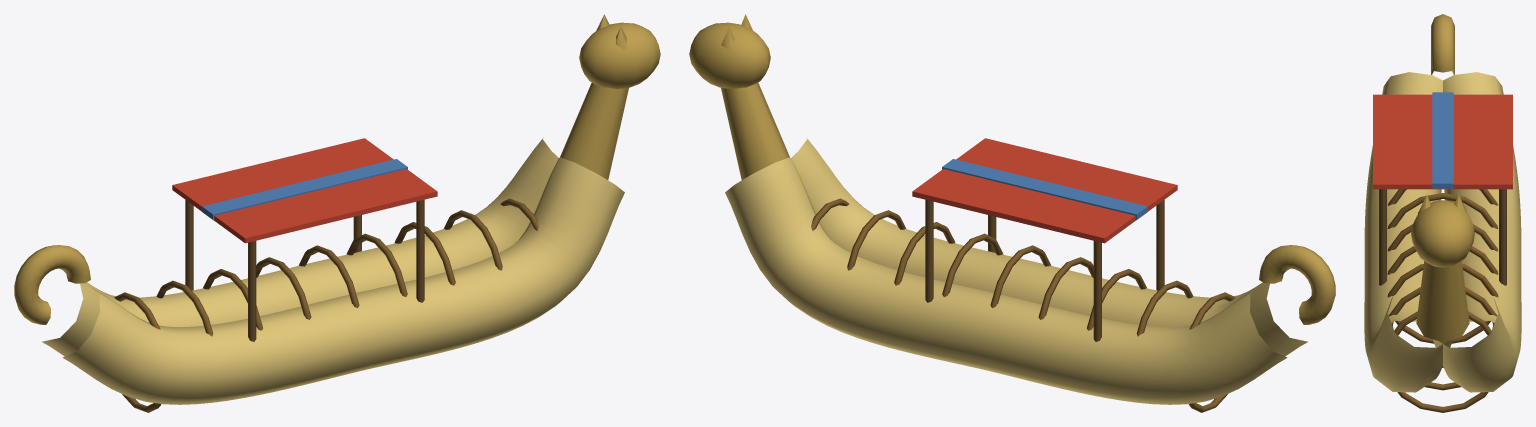
Rendered from balsa-totora.glb.
3 views of the same model, side by side, from view 1: azimuth 30°, elevation 25°; view 2: azimuth 150°, elevation 25°; view 3: azimuth 270°, elevation 25° (orthographic). The views are drawn at different scales.
Parts seen in each view (by area): view 1: Balsa de totora; view 2: Balsa de totora; view 3: Balsa de totora.
Boxes of the visible parts, x1,y1,x2,y2 form: Balsa de totora: (14,14,660,412); Balsa de totora: (689,14,1335,412); Balsa de totora: (1364,14,1521,412).
Size of the model in its own units: 5.34 by 2.16 by 1.18.
